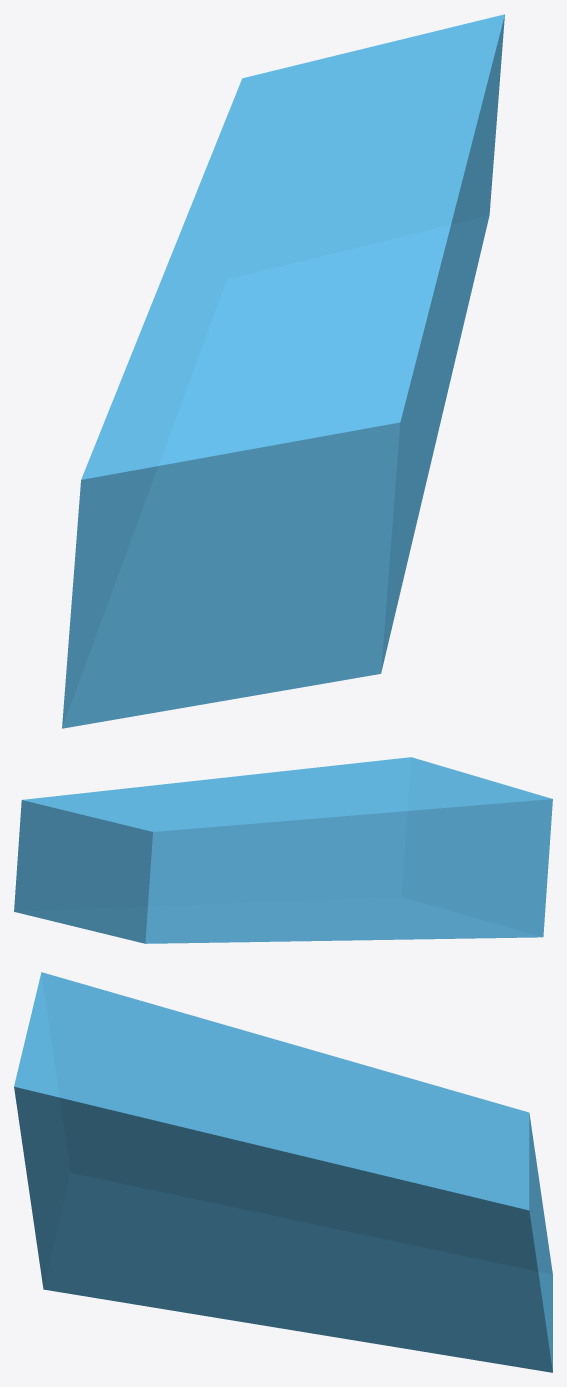
Rendered from Event_421278790_HBrechit_11.fbx.
The picture shows the model from 3 angles, top to bottom: view 1: azimuth 30°, elevation 25°; view 2: azimuth 150°, elevation 25°; view 3: azimuth 270°, elevation 25°; orthographic projection. The views are drawn at different scales.
Parts seen in each view (by area): view 1: Model; view 2: Model; view 3: Model.
Part boxes in pixels (left/top/right/bottom): Model: left=62, top=14, right=504, bottom=728; Model: left=14, top=757, right=552, bottom=943; Model: left=14, top=972, right=552, bottom=1372.
Size of the model in its own units: 1.46 by 0.598 by 1.2.
